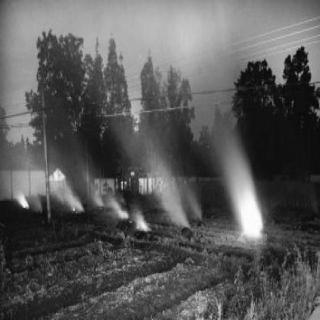Fire: (134, 208, 148, 228), (117, 206, 131, 222), (18, 194, 31, 210)
Smoke: (208, 111, 246, 191), (157, 171, 189, 219), (62, 183, 80, 209), (93, 188, 100, 204), (108, 194, 118, 204)
